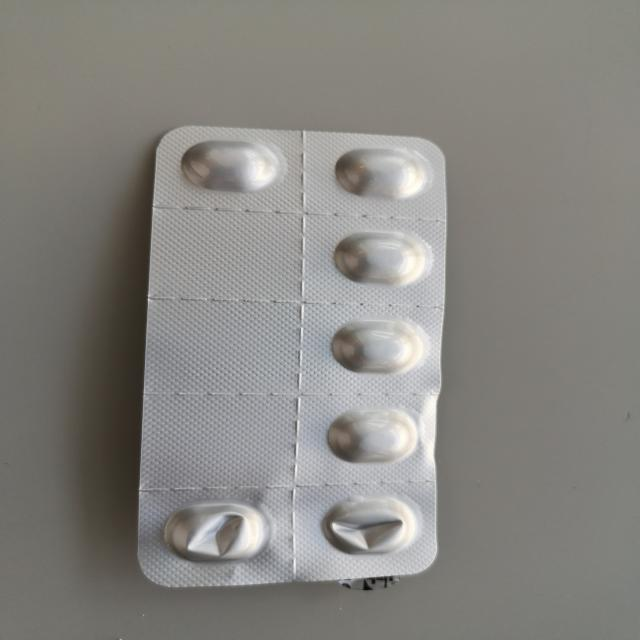Empty: (156, 499, 278, 565), (318, 493, 418, 558)
Pill: (328, 228, 438, 291), (322, 402, 423, 469), (175, 135, 283, 195), (326, 144, 437, 202), (326, 316, 428, 378)
